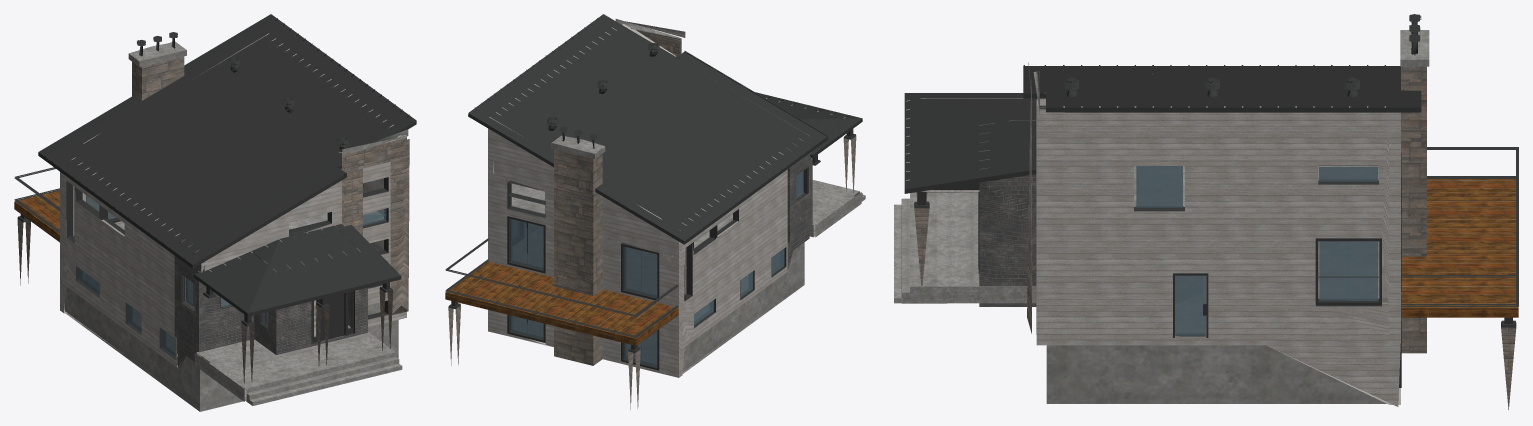
The model's file is house-real-3s3.glb.
The picture shows the model from 3 angles, left to right: view 1: azimuth 30°, elevation 25°; view 2: azimuth 150°, elevation 25°; view 3: azimuth 270°, elevation 25°; orthographic projection. The views are drawn at different scales.
Parts seen in each view (by area): view 1: Object_7, Object_6, Object_3, Object_8, Object_2, Object_5, Object_4; view 2: Object_7, Object_6, Object_8, Object_2, Object_3, Object_5, Object_4; view 3: Object_6, Object_7, Object_3, Object_8, Object_4, Object_2, Object_5.
Boxes of the visible parts, x1,y1,x2,y2 form: Object_7: (38, 14, 416, 316); Object_6: (60, 33, 406, 367); Object_3: (65, 41, 408, 411); Object_8: (14, 169, 367, 368); Object_2: (17, 56, 409, 388); Object_5: (14, 32, 392, 359); Object_4: (78, 195, 386, 356); Object_7: (468, 14, 862, 244); Object_6: (488, 24, 845, 377); Object_8: (445, 80, 812, 345); Object_2: (448, 30, 856, 409); Object_3: (512, 19, 865, 373); Object_5: (445, 43, 856, 370); Object_4: (510, 171, 803, 366); Object_6: (906, 73, 1400, 406); Object_7: (904, 65, 1421, 193); Object_3: (894, 30, 1429, 403); Object_8: (979, 70, 1518, 317); Object_4: (1136, 166, 1378, 336); Object_2: (914, 66, 1516, 409); Object_5: (914, 14, 1518, 387).
Size of the model in its own units: 1045 by 1073 by 1886.
7 materials, 7 textured.
